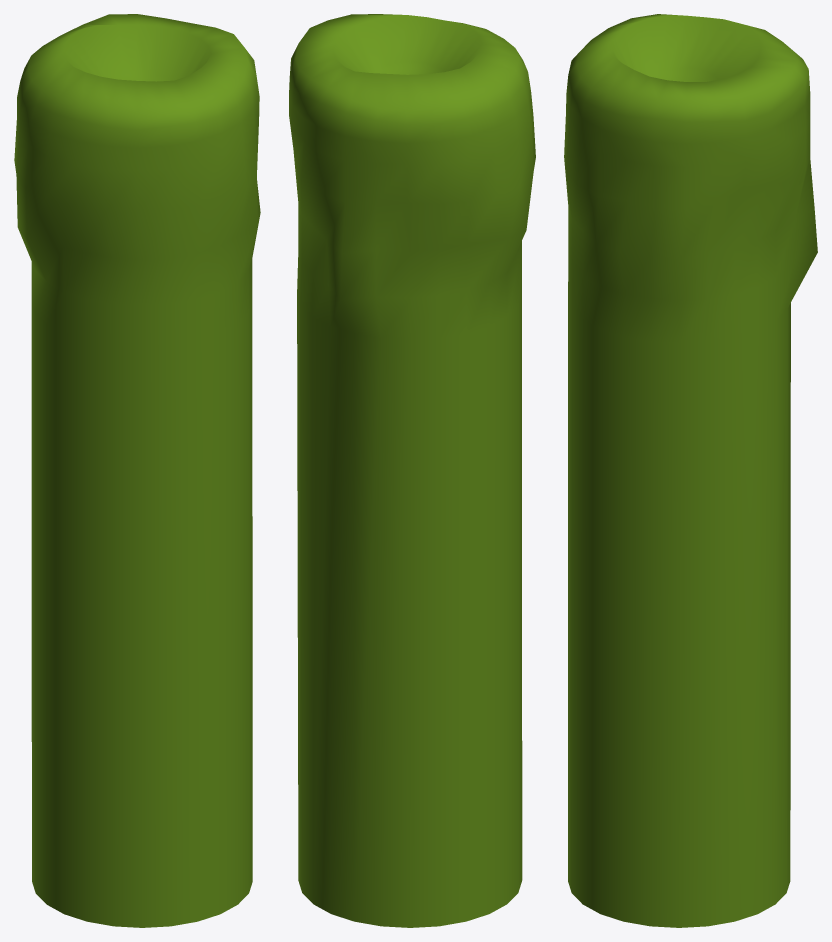
The model's file is candle1.fbx.
3 renders of one model, left to right at view 1: azimuth 30°, elevation 25°; view 2: azimuth 150°, elevation 25°; view 3: azimuth 270°, elevation 25°, orthographic.
Parts seen in each view (by area): view 1: candle1_low; view 2: candle1_low; view 3: candle1_low.
Part boxes in pixels (bbox=[...]): candle1_low: bbox=[14, 14, 260, 927]; candle1_low: bbox=[289, 14, 535, 927]; candle1_low: bbox=[564, 14, 817, 927].
Bounding box in the file's own units: 335 × 328 × 1192.
